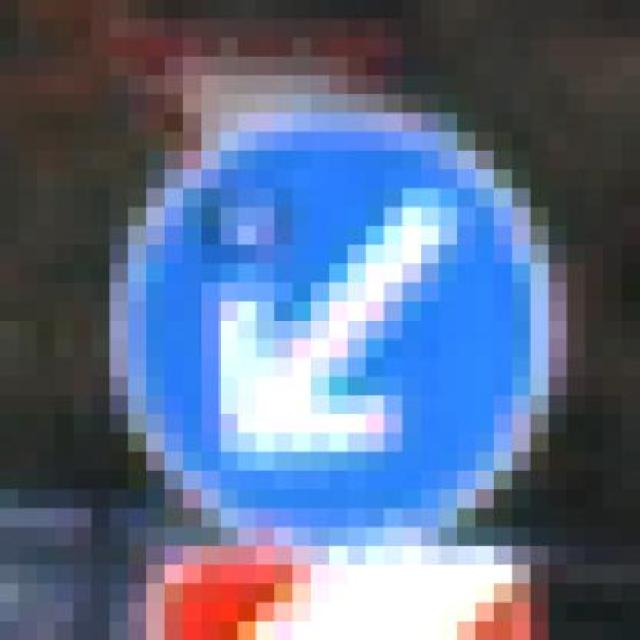Keep-Left: (54, 94, 586, 528)
